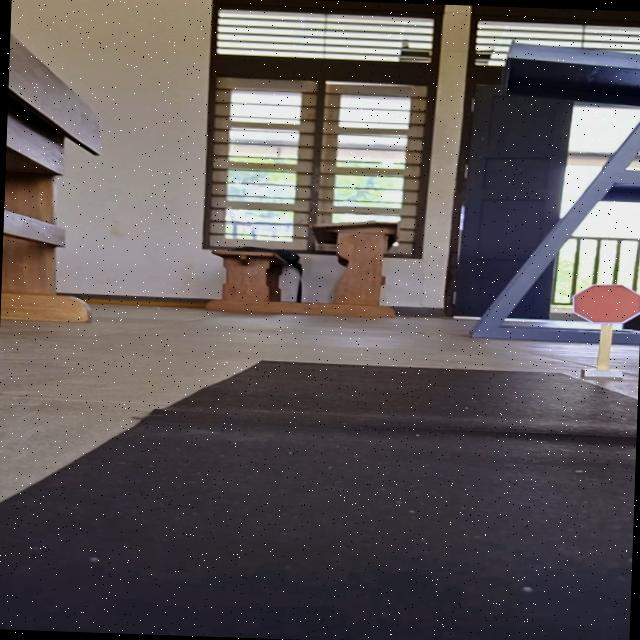Stop: (565, 278, 640, 327)
